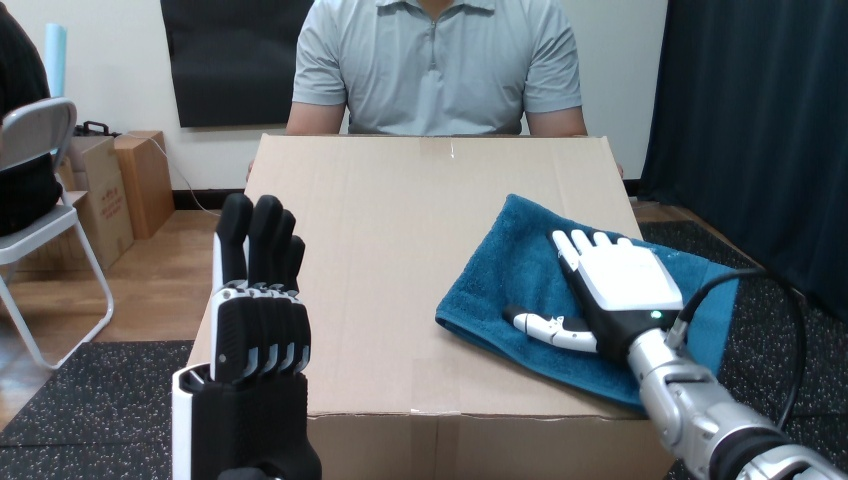left robot hand: (172, 194, 320, 479), (786, 295, 847, 472), (719, 279, 794, 420)
